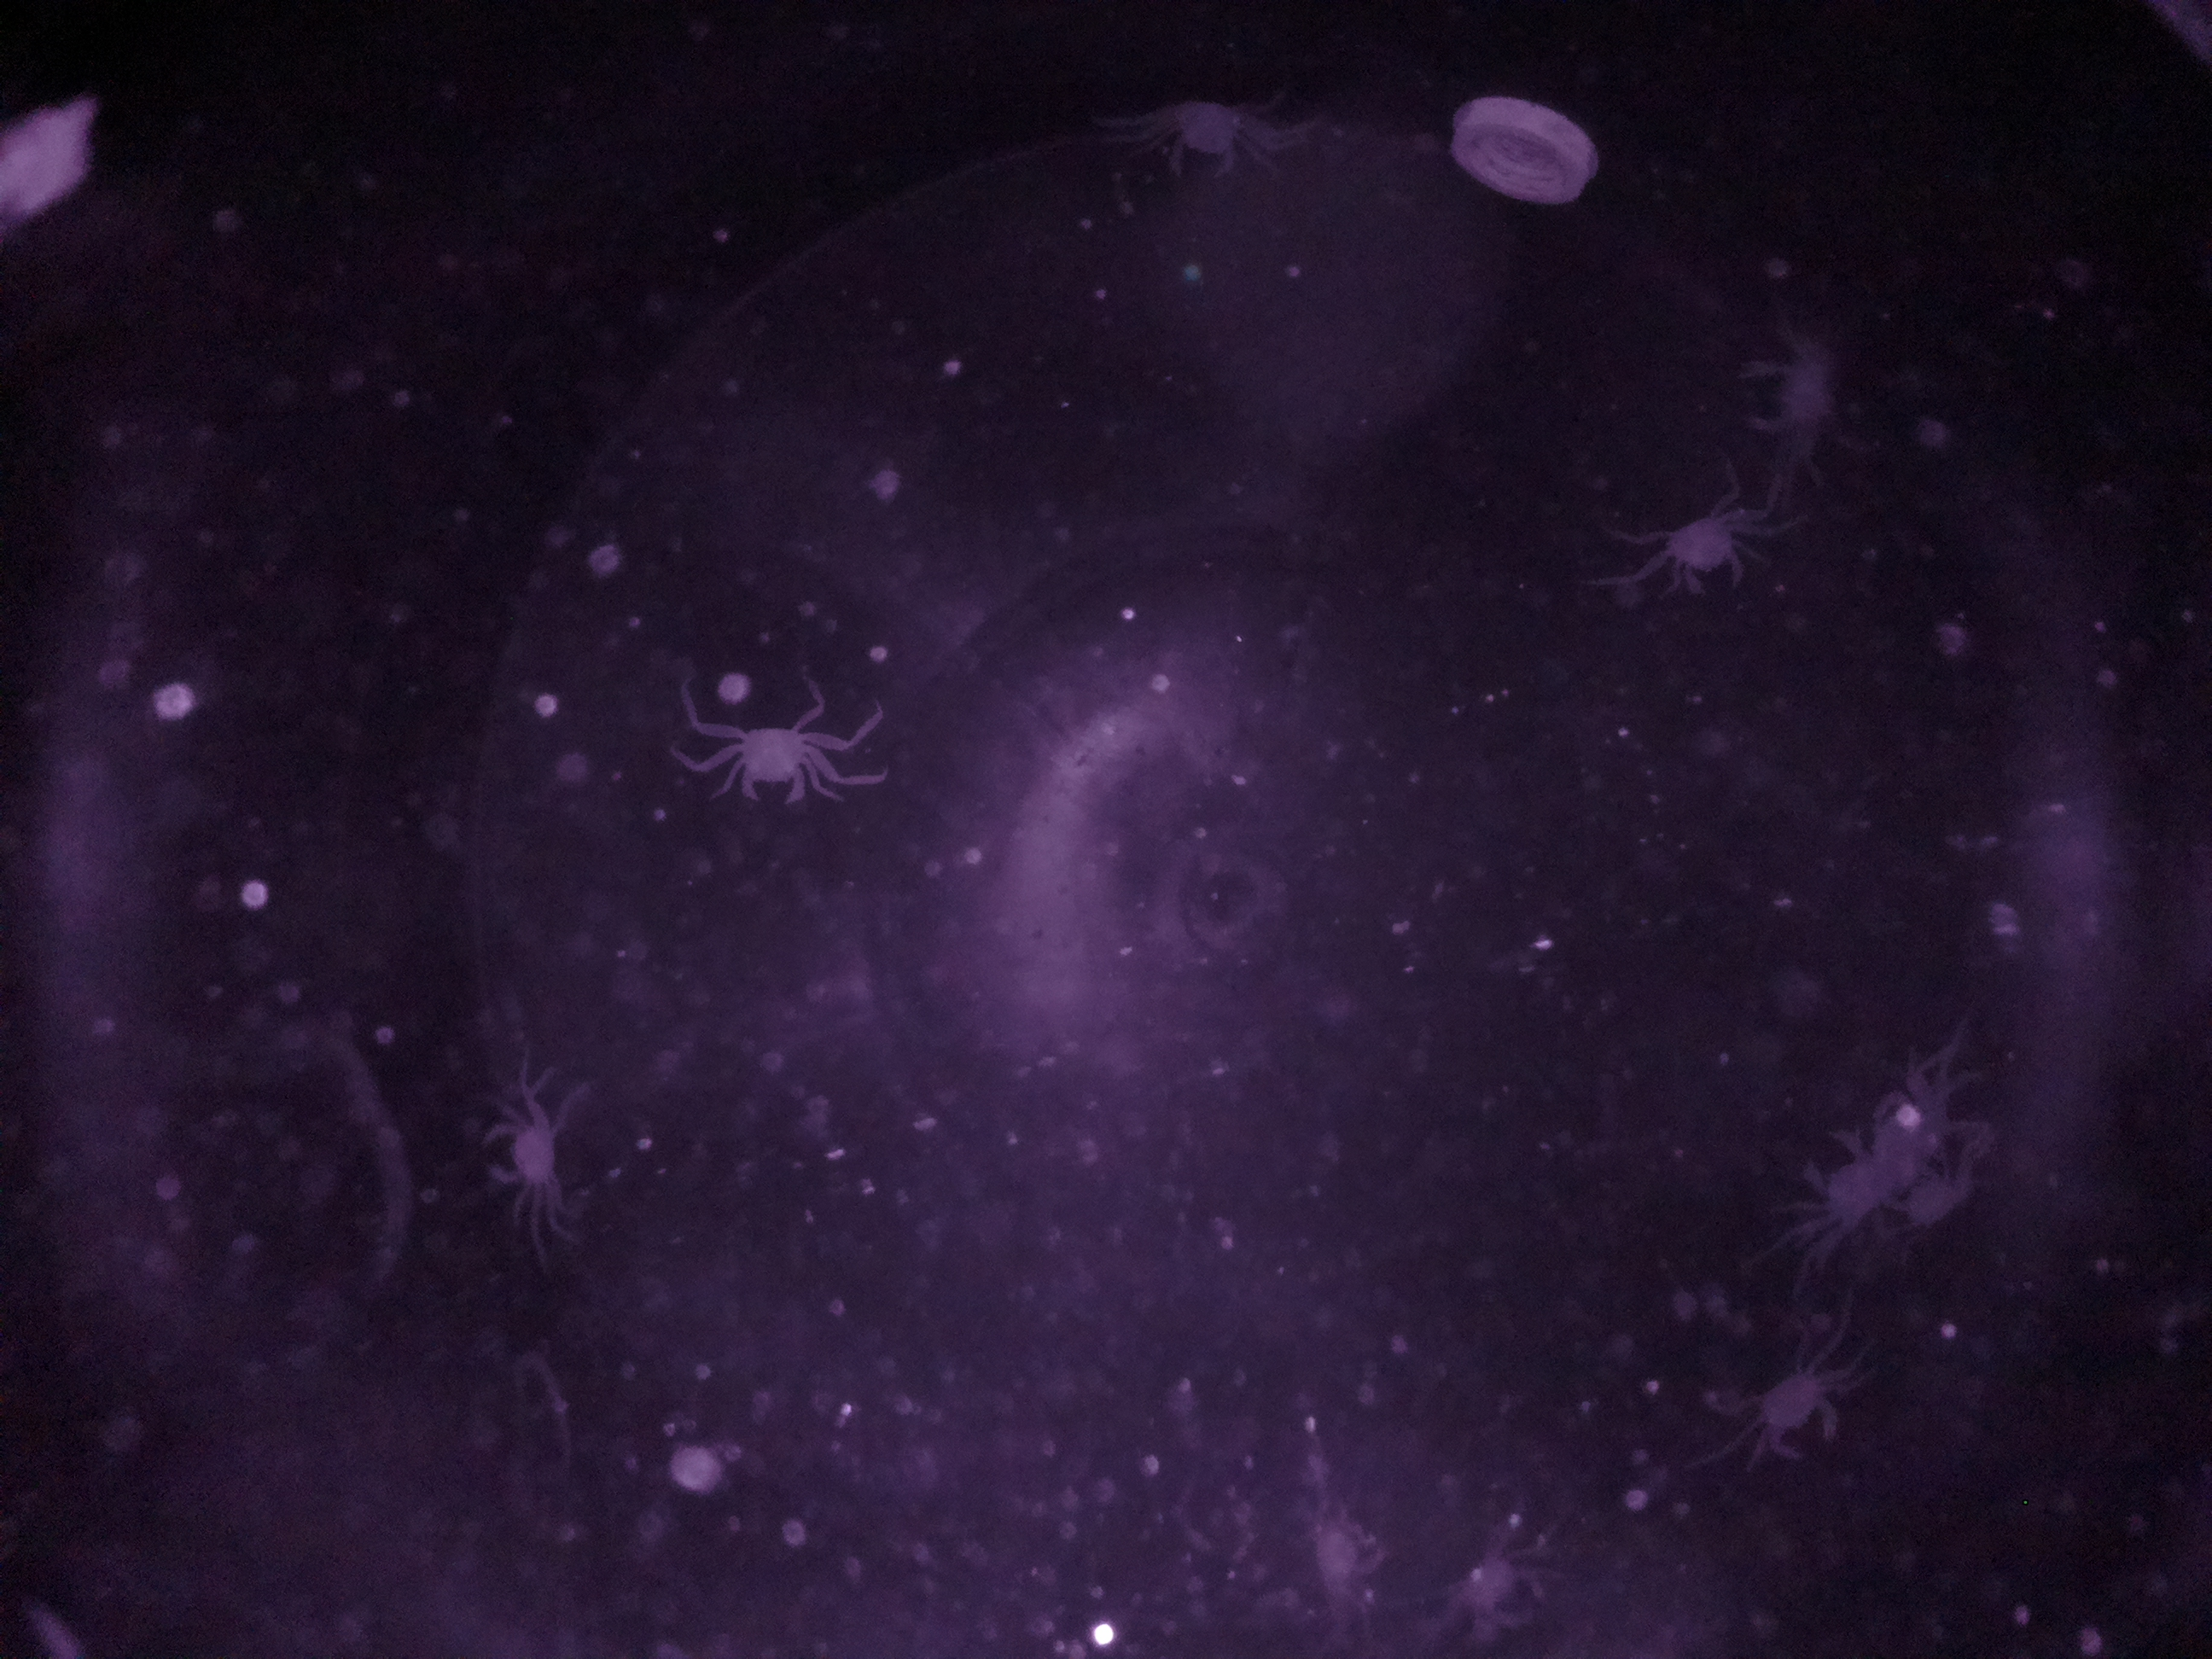Crab: (1782, 1110, 1904, 1244), (1738, 1349, 1855, 1476), (470, 1098, 596, 1215), (712, 699, 829, 817), (1656, 498, 1775, 610), (1153, 73, 1258, 193)
